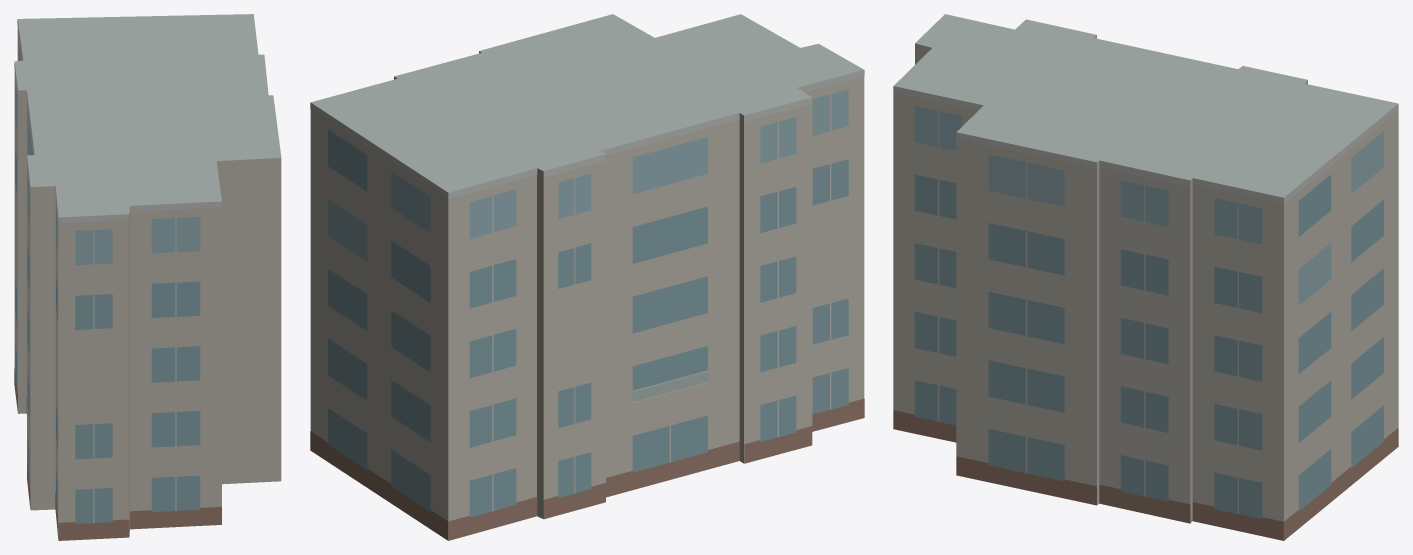
Rendered from survey-upis-32532566.glb.
3 renders of one model, left to right at view 1: azimuth 30°, elevation 25°; view 2: azimuth 150°, elevation 25°; view 3: azimuth 270°, elevation 25°, orthographic. The views are drawn at different scales.
Visible parts, largest first — view 1: survey-upis-32532566.tmp; view 2: survey-upis-32532566.tmp; view 3: survey-upis-32532566.tmp.
Part boxes in pixels (x1,y1,x2,y2): survey-upis-32532566.tmp: (14,14,281,540); survey-upis-32532566.tmp: (310,14,864,540); survey-upis-32532566.tmp: (893,14,1398,540).
Size of the model in its own units: 15.17 by 13.2 by 17.62.
